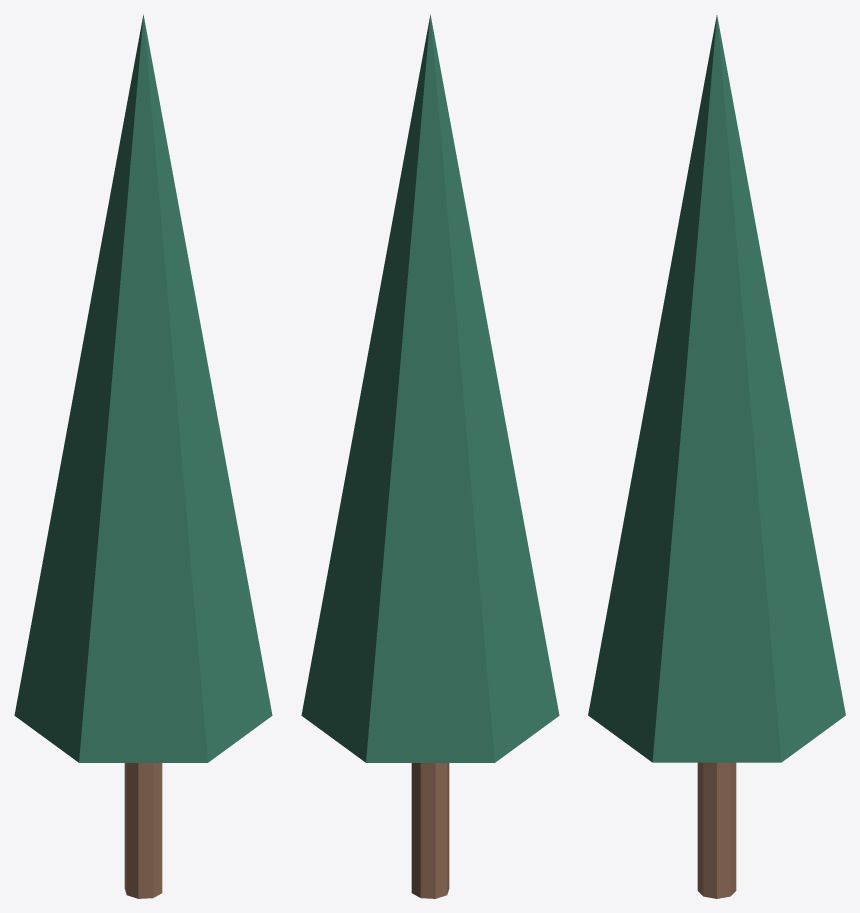
File: cypress.obj
3 views of the same model, side by side, from view 1: azimuth 30°, elevation 25°; view 2: azimuth 150°, elevation 25°; view 3: azimuth 270°, elevation 25° (orthographic).
Parts seen in each view (by area): view 1: cypress; view 2: cypress; view 3: cypress.
Part boxes in pixels (left/top/right/bottom): cypress: left=14, top=14, right=272, bottom=898; cypress: left=301, top=14, right=559, bottom=898; cypress: left=588, top=15, right=845, bottom=898.
Size of the model in its own units: 1.73 by 7.5 by 2.
